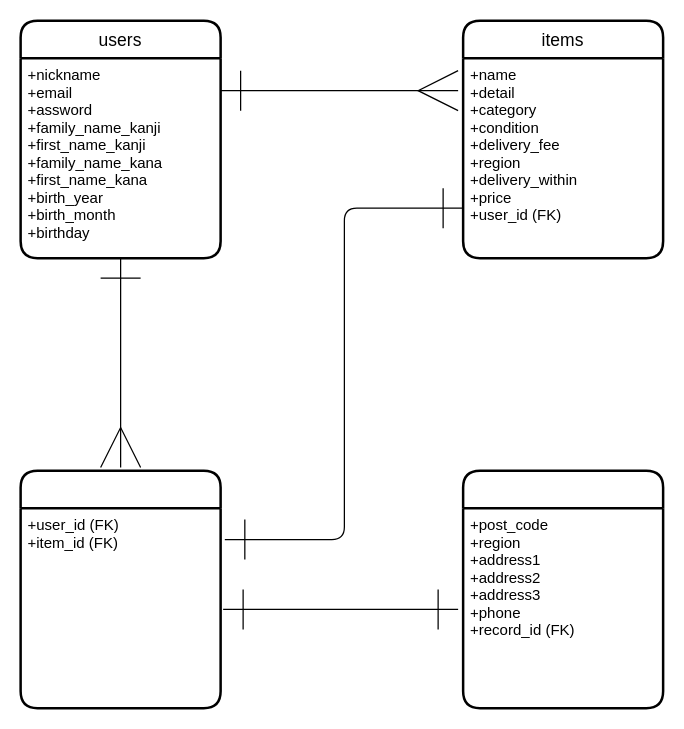
Image size: 684x729. Some labels were removed from this diagram. The box of each missing label's shape, as (x1, y1, x2, y2) in pixels:
deliveries: (461, 469, 664, 709)
records: (19, 469, 221, 709)
